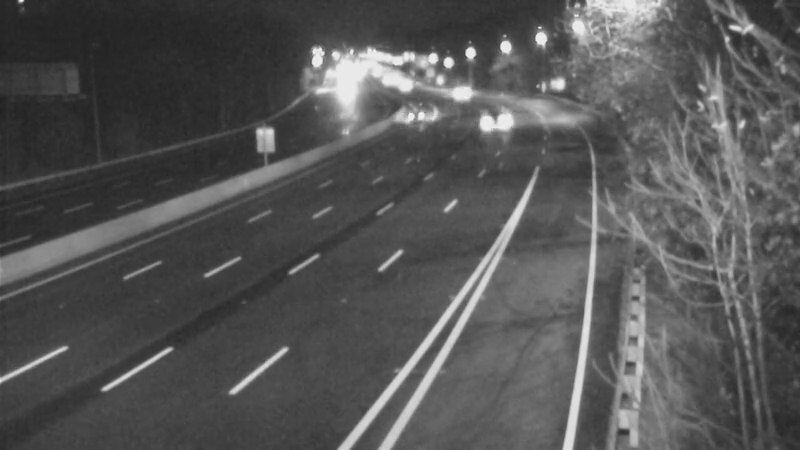vehicle: (433, 69, 483, 119), (386, 87, 436, 137), (461, 93, 511, 143)
